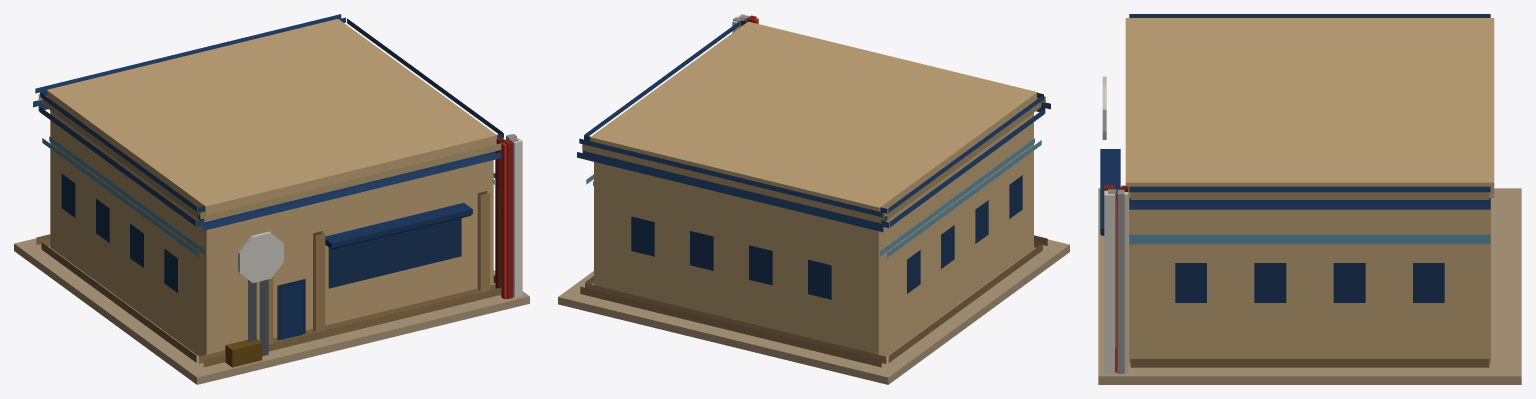
File: FloppyFennecSil.fbx
3 views of the same model, side by side, from view 1: azimuth 30°, elevation 25°; view 2: azimuth 150°, elevation 25°; view 3: azimuth 270°, elevation 25° (orthographic). The views are drawn at different scales.
Parts seen in each view (by area): view 1: RA_S_All; view 2: RA_S_All; view 3: RA_S_All.
Boxes of the visible parts, <box> form: RA_S_All: <box>14,14,529,384</box>; RA_S_All: <box>558,14,1069,384</box>; RA_S_All: <box>1098,14,1521,384</box>.
Size of the model in its own units: 42.04 by 19.9 by 40.04.
